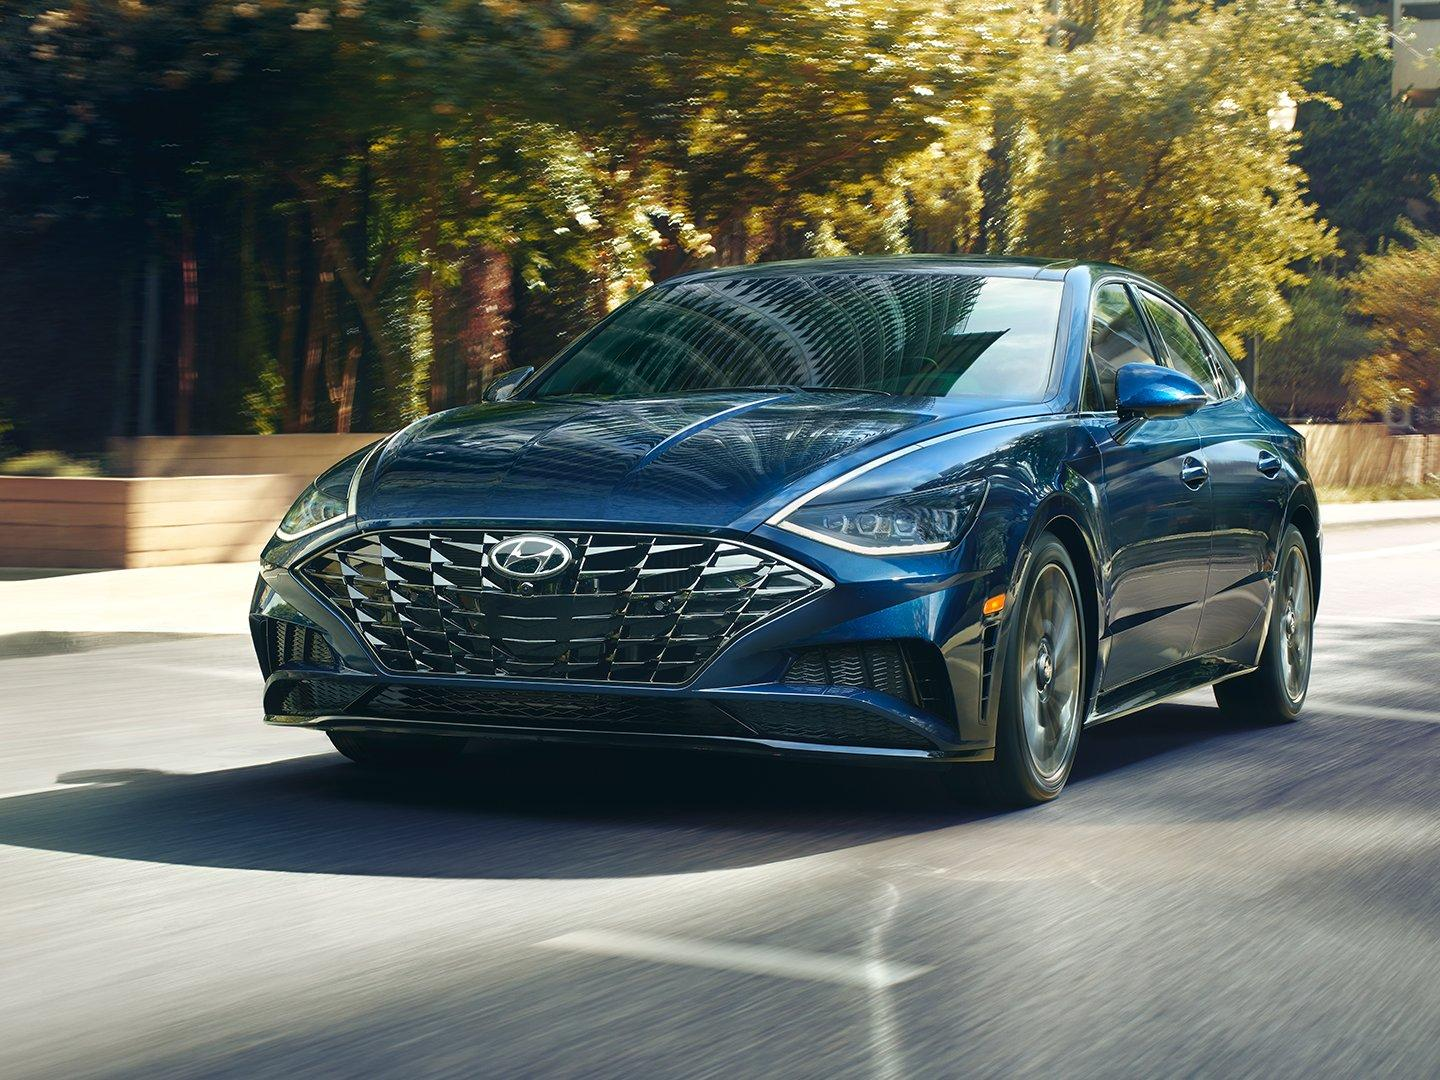car: (237, 218, 1332, 824)
